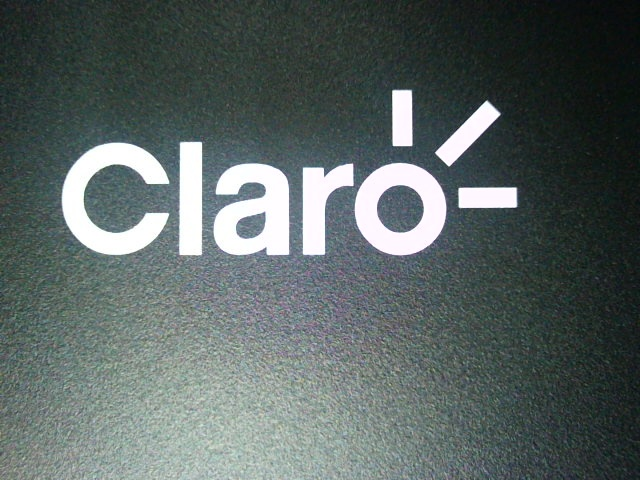BC_Claor: (55, 75, 532, 256)
